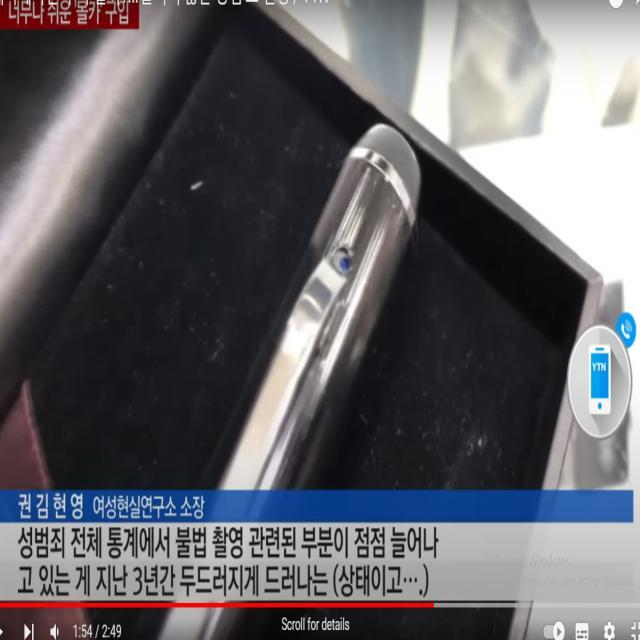hidden camera: (341, 248, 352, 275)
